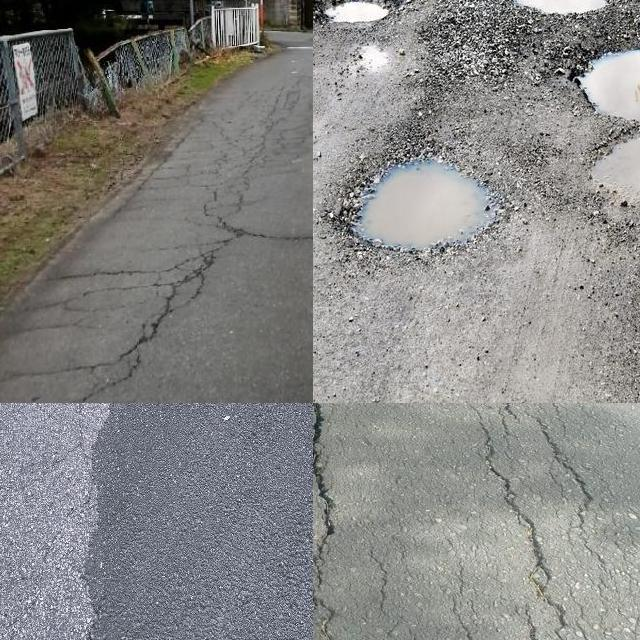Lubang: (336, 142, 503, 250), (572, 35, 640, 119), (590, 137, 640, 208), (500, 0, 620, 26), (316, 0, 401, 28)
Melintang: (238, 220, 313, 253)
Memanjang: (68, 240, 235, 403), (313, 403, 360, 640)
Sambungan: (84, 403, 313, 640)
